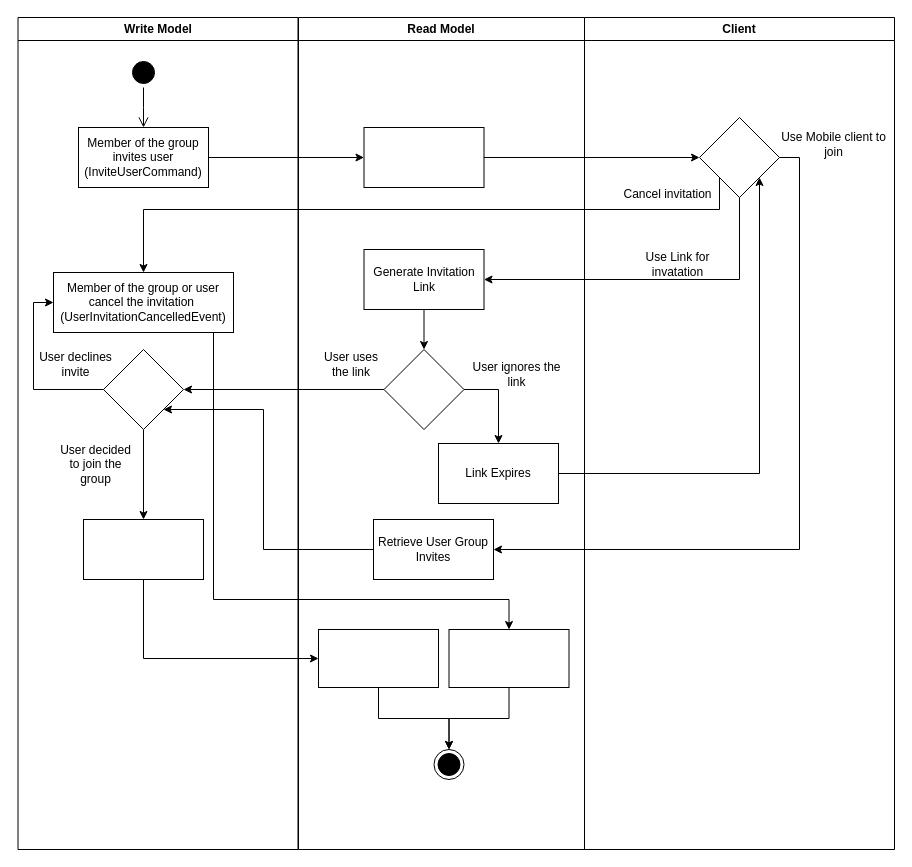
Image size: 912x867. Some labels were removed from this diagram. The shapes that lost their labels are listed below. From the top down, each one's centre as x and y in pixels, then its label:
At [423,157]: "Update read model (UserInvitedEvent)".
At [143,549]: "User Joins the Group (JoinGroupCommand)".
At [378,658]: "Update read model (UserJoinedEvent)".
At [508,658]: "Update read model (IniteCanceledEvent)".
